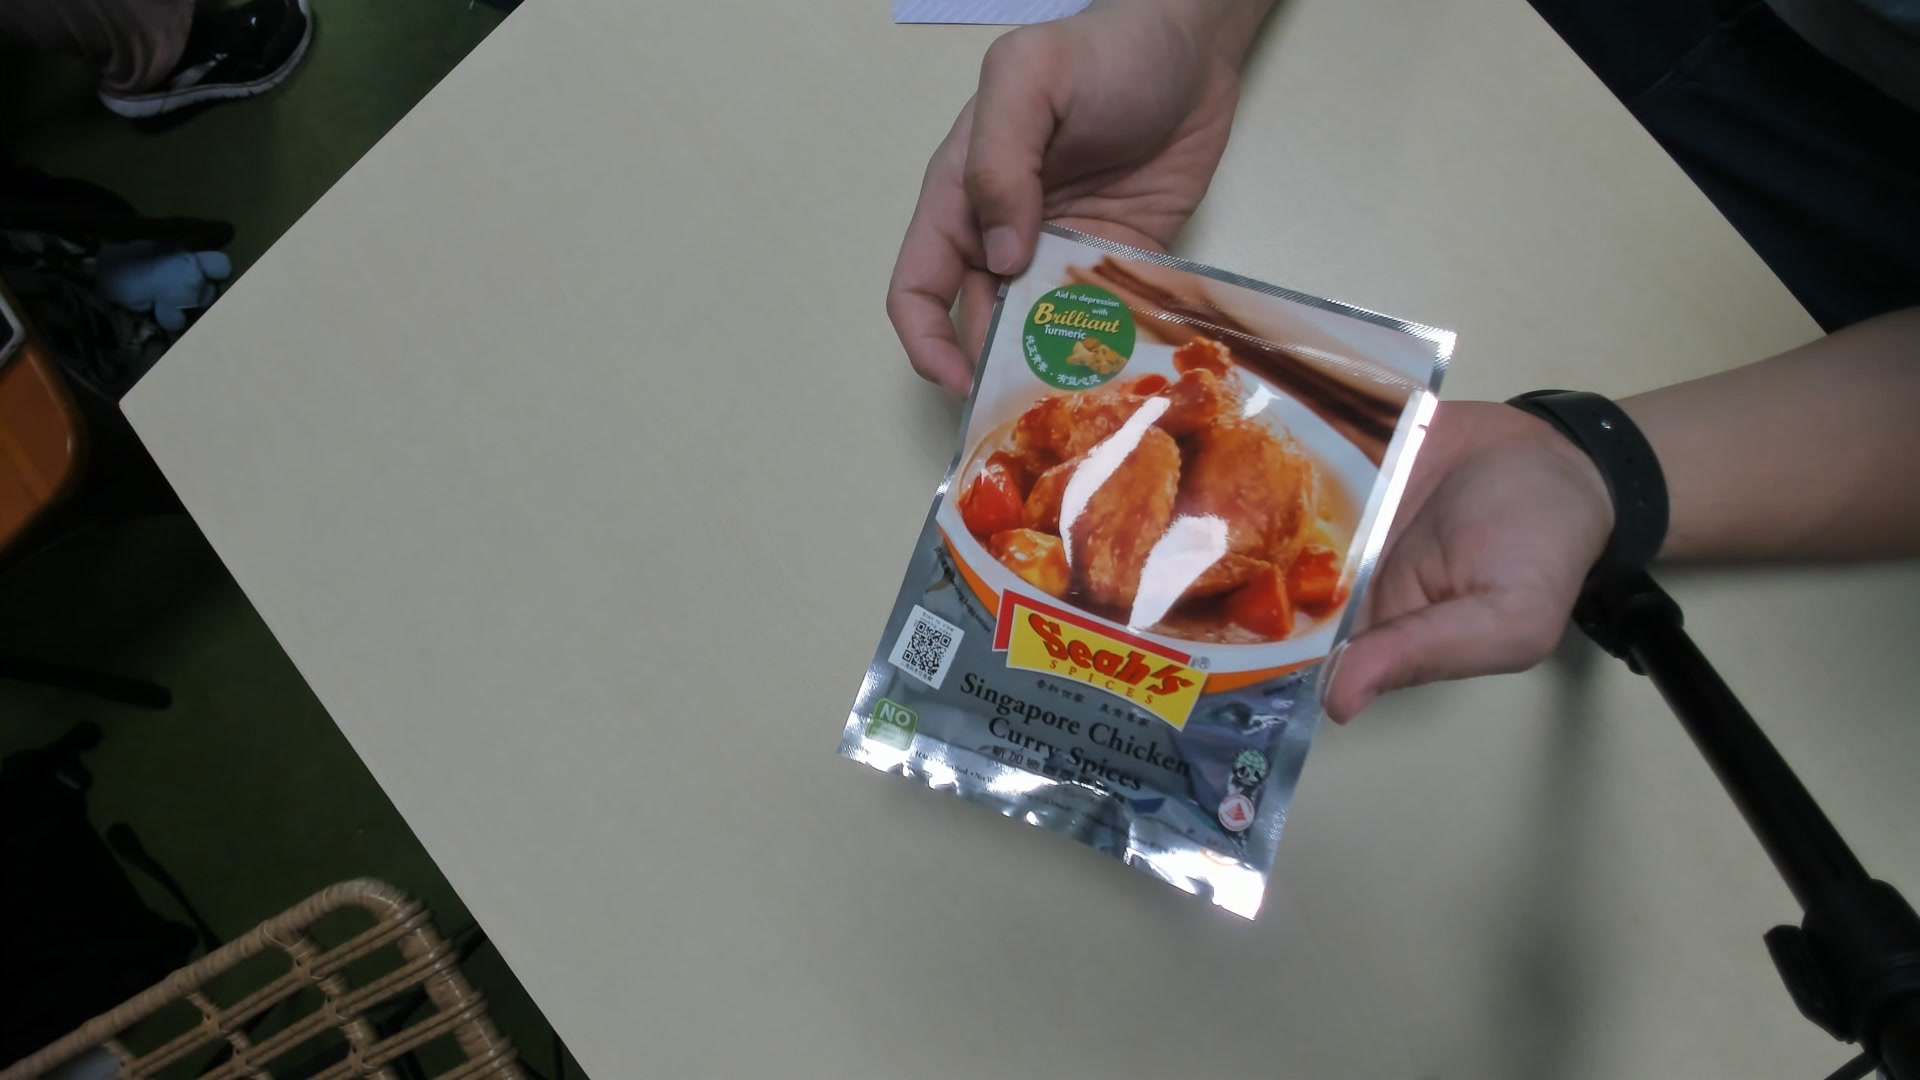CurryPastePowderSauce_0-99g_Halal_Healthy: (860, 219, 1443, 919)
